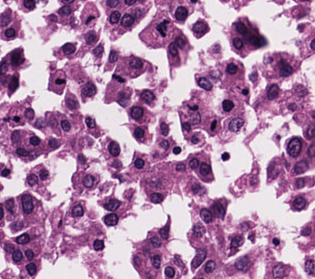nucleus: (191, 248, 206, 269), (287, 137, 301, 156), (211, 202, 224, 218), (294, 160, 308, 174), (234, 256, 248, 270), (228, 118, 243, 131), (82, 83, 96, 96), (140, 90, 154, 103), (267, 84, 279, 99), (66, 95, 78, 110), (249, 35, 265, 46), (104, 199, 120, 210), (279, 63, 292, 76), (198, 77, 211, 90), (130, 106, 143, 119), (293, 196, 305, 210), (200, 208, 212, 222), (108, 141, 119, 156), (104, 213, 117, 225), (230, 236, 243, 248), (117, 92, 128, 106), (193, 223, 204, 237), (85, 31, 96, 44), (62, 43, 75, 54), (129, 57, 142, 68), (204, 260, 215, 273), (273, 264, 284, 277), (159, 224, 169, 238), (295, 85, 307, 96), (222, 99, 233, 111), (199, 163, 210, 175), (82, 175, 93, 187), (150, 192, 162, 203), (168, 42, 177, 56), (305, 260, 314, 274), (226, 63, 237, 74), (72, 205, 83, 216), (190, 111, 200, 123), (151, 255, 160, 268), (93, 45, 103, 56), (134, 127, 144, 138), (48, 138, 58, 149), (150, 236, 160, 247), (93, 239, 103, 250), (164, 266, 174, 277), (160, 122, 168, 135), (305, 125, 313, 138), (175, 37, 185, 47), (85, 117, 95, 127), (233, 37, 242, 48), (61, 120, 70, 131), (109, 50, 117, 62), (29, 136, 39, 145), (134, 158, 143, 168), (189, 158, 198, 168), (39, 169, 48, 179), (295, 178, 304, 188), (210, 71, 220, 79), (35, 119, 45, 127), (301, 227, 311, 235), (113, 75, 124, 82), (249, 72, 257, 81), (182, 122, 190, 131), (160, 140, 168, 149), (308, 144, 314, 156), (176, 163, 185, 171), (192, 184, 201, 192), (221, 152, 229, 160), (78, 154, 85, 163), (55, 78, 65, 84), (210, 120, 216, 130), (191, 135, 198, 143), (173, 146, 180, 154), (112, 160, 121, 166), (188, 105, 198, 110), (272, 238, 279, 245), (248, 233, 254, 241), (310, 39, 314, 50), (242, 89, 248, 94), (289, 104, 294, 109), (58, 220, 61, 226)
